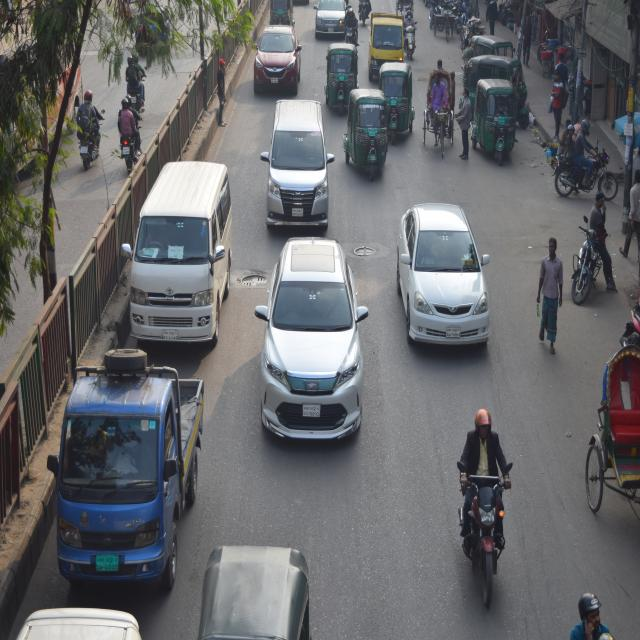car: (262, 221, 377, 488), (388, 172, 512, 364), (245, 11, 314, 98), (307, 0, 366, 40)
microbus: (128, 156, 239, 347), (257, 97, 341, 239)
motorbike: (448, 383, 518, 605)
pickup-van: (56, 333, 184, 605), (364, 11, 425, 82)
